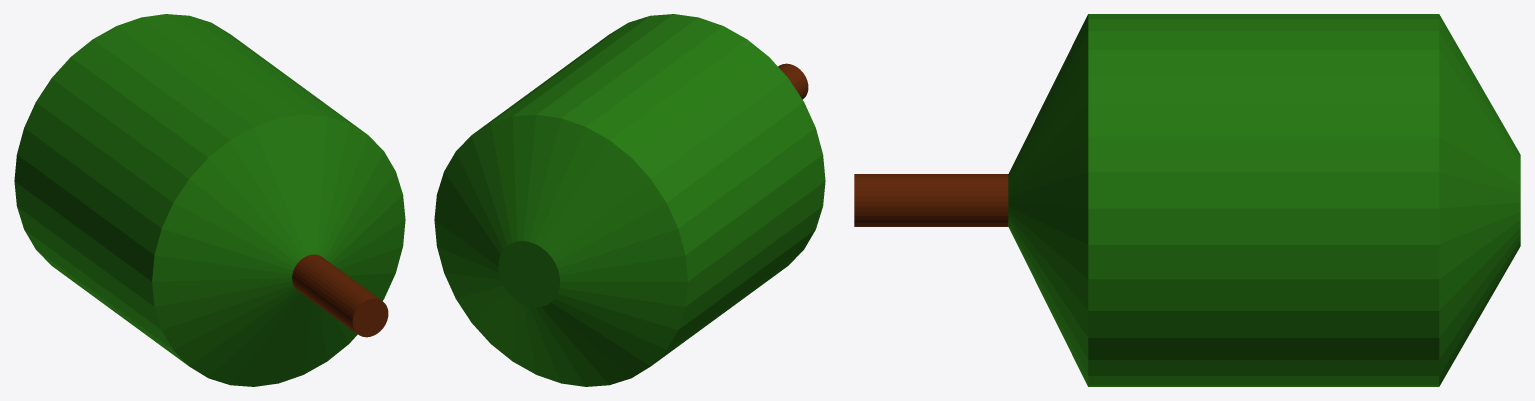
File: tree3.fbx
3 views of the same model, side by side, from view 1: azimuth 30°, elevation 25°; view 2: azimuth 150°, elevation 25°; view 3: azimuth 270°, elevation 25° (orthographic). The views are drawn at different scales.
Visible parts, largest first — view 1: Cylinder; view 2: Cylinder; view 3: Cylinder.
Boxes of the visible parts, x1=… form: Cylinder: x1=14, y1=14, x2=405, y2=386; Cylinder: x1=434, y1=14, x2=825, y2=386; Cylinder: x1=854, y1=14, x2=1520, y2=386.
Size of the model in its own units: 599 by 599 by 1069.
